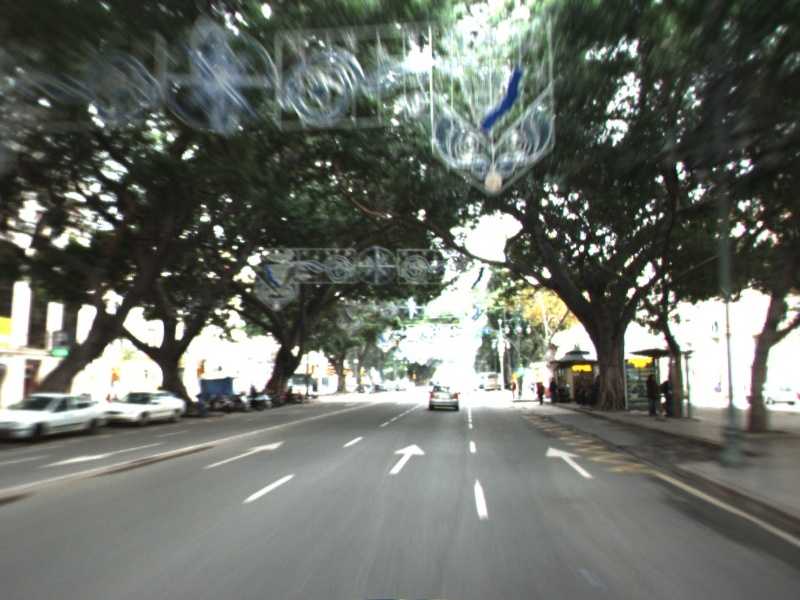STRAIGHT: (200, 439, 288, 471), (543, 444, 597, 481), (386, 442, 428, 476)
